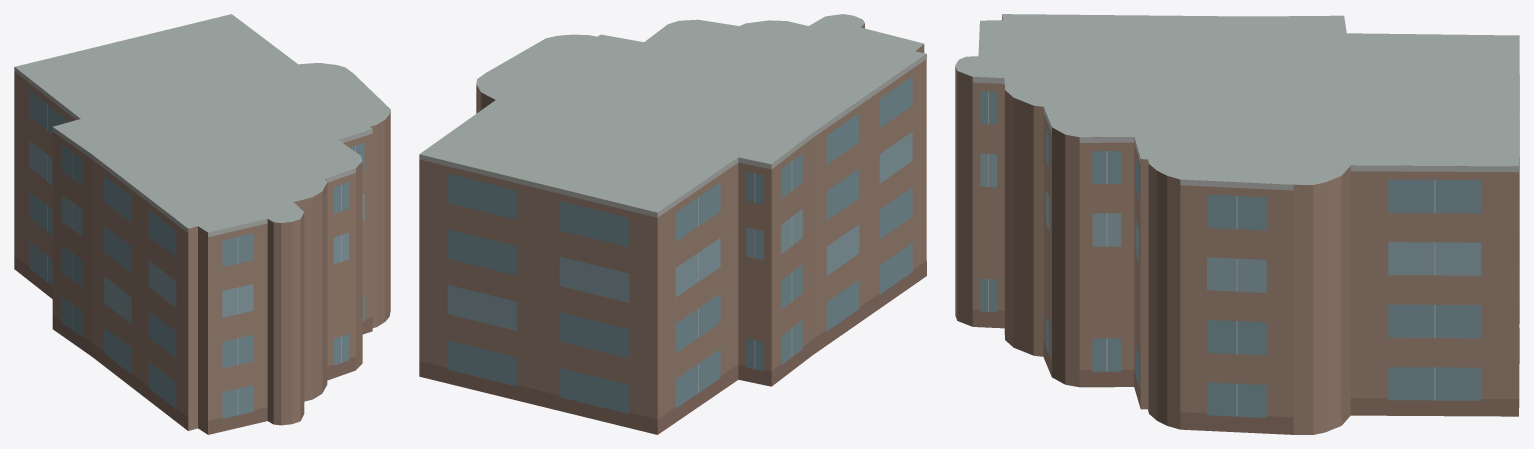
File: survey-upis-33016486.glb
3 renders of one model, left to right at view 1: azimuth 30°, elevation 25°; view 2: azimuth 150°, elevation 25°; view 3: azimuth 270°, elevation 25°, orthographic. The views are drawn at different scales.
Visible parts, largest first — view 1: survey-upis-33016486.tmp; view 2: survey-upis-33016486.tmp; view 3: survey-upis-33016486.tmp.
Boxes of the visible parts, bbox=[...] form: survey-upis-33016486.tmp: bbox=[14, 14, 390, 434]; survey-upis-33016486.tmp: bbox=[419, 14, 926, 434]; survey-upis-33016486.tmp: bbox=[955, 14, 1519, 434].
Bounding box in the file's own units: 15.54 × 10.6 × 21.69.
